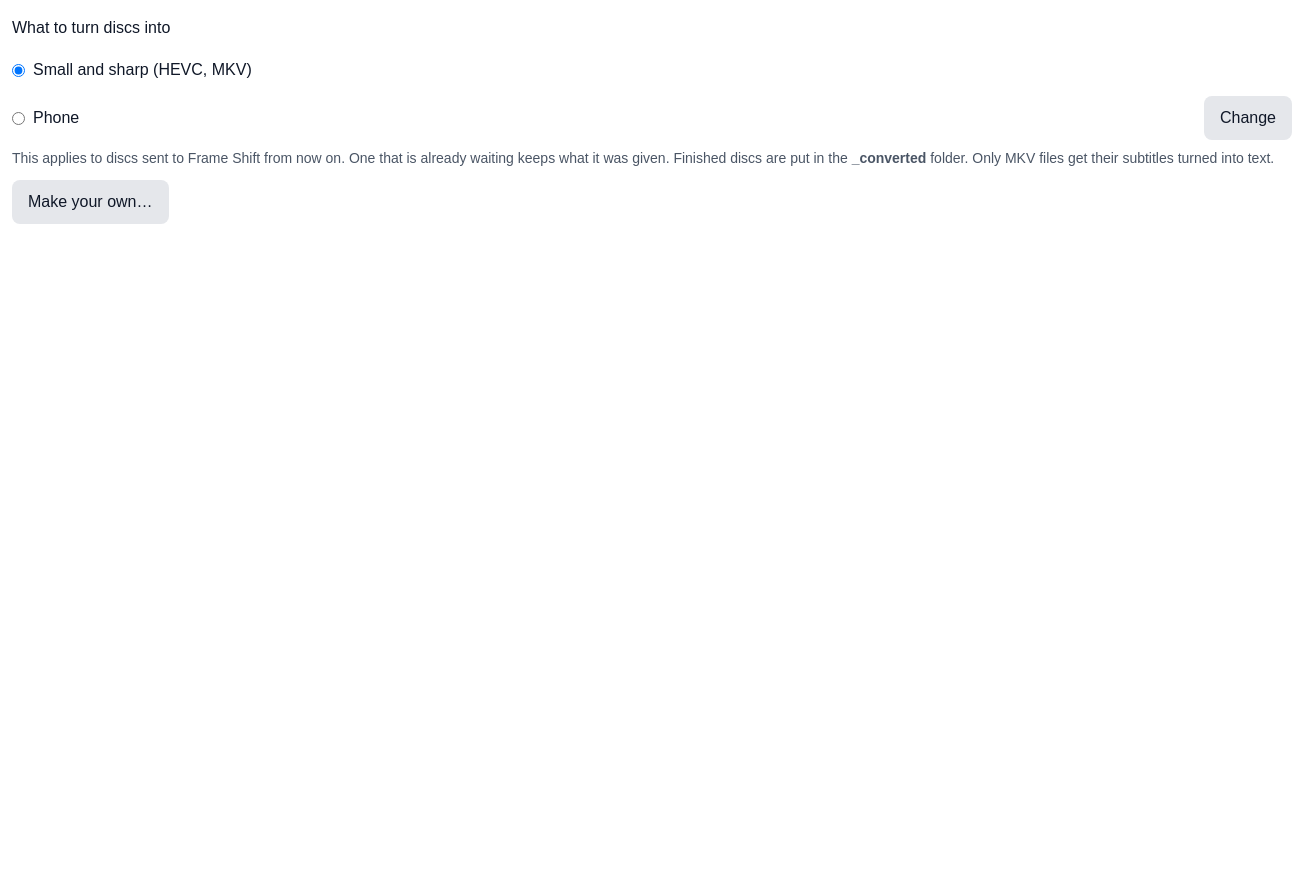
Scenario: making a preset of your own › a new preset starts as the way discs were always made
The width and height of the screenshot is (1304, 878).
Click the button "Make your own…". click: {"x": 90, "y": 202}
box: [12,180,168,224]
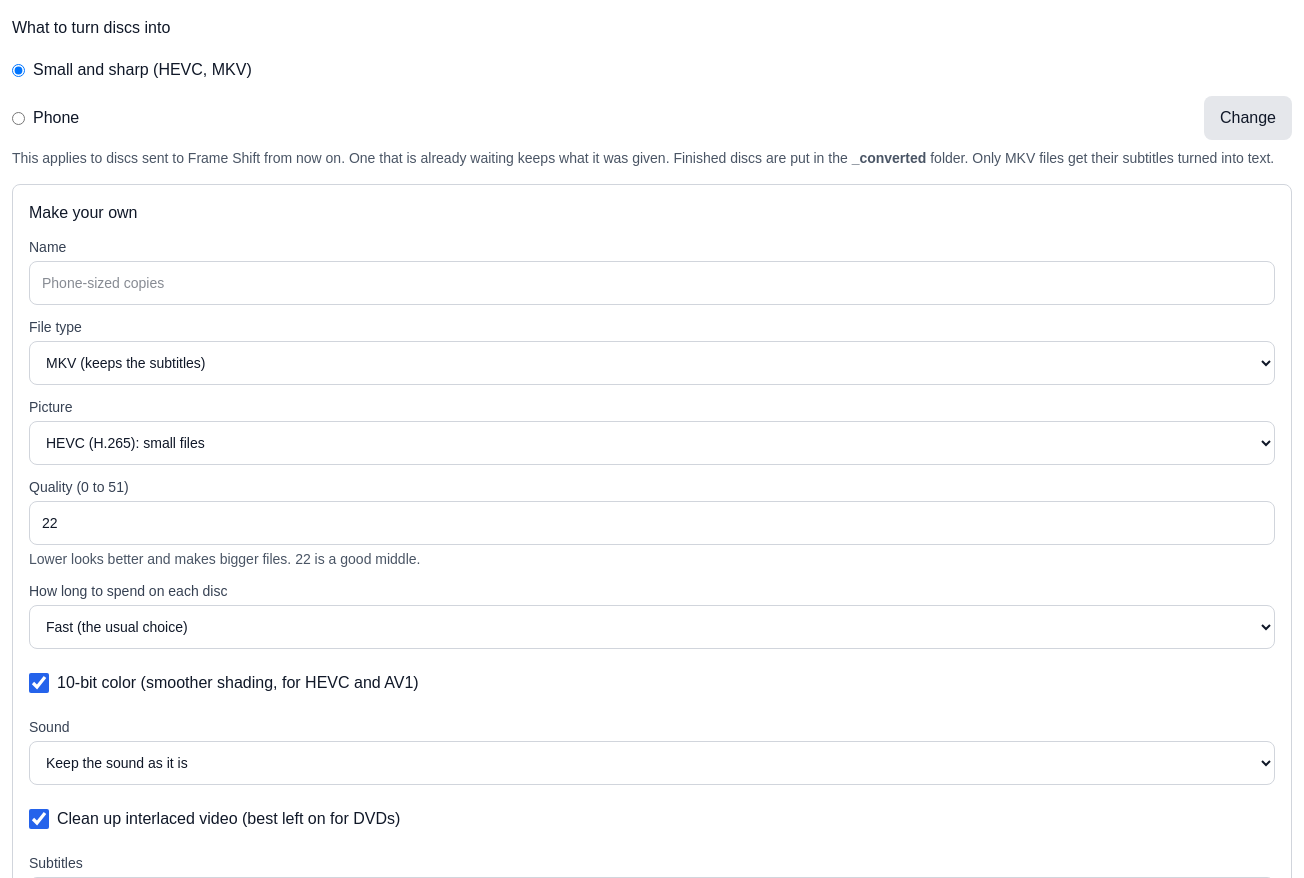
Expected: the dropdown labelled "File type" shows "MKV (keeps the subtitles)", [29,341,1275,385]
Expected: the dropdown labelled "Picture" shows "HEVC (H.265): small files", [29,421,1275,465]
Expected: the field labelled "Quality (0 to 51)" holds "22", [29,501,1275,545]
